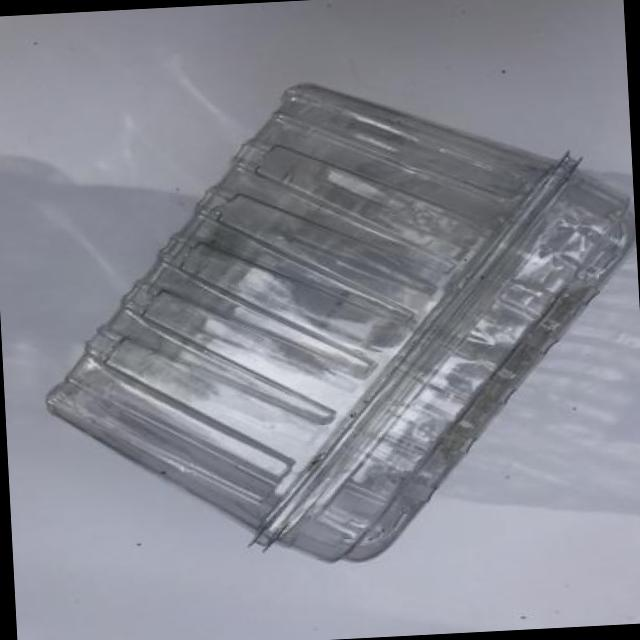plastic: (48, 85, 634, 560)
